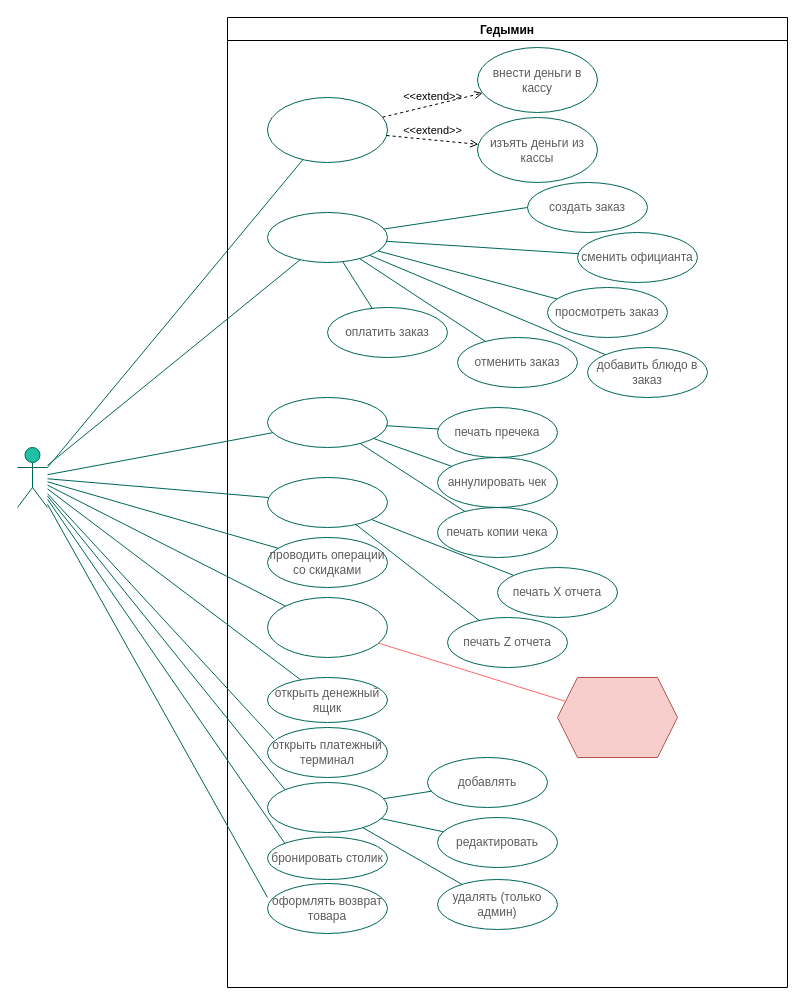
Image size: 805x1005. Some labels were removed from this diagram. The centre of each missing label's shape, as x and y in pixels:
"Actor" belongs at point 32,477.
"закрыть фискальную смену" belongs at point 327,627.
"можно ли закрыть смену без изъятия денег из кассы?" belongs at point 617,717.
"открыть фискальную смену" belongs at point 327,129.
"печатать отчеты" belongs at point 327,502.
"проводить операции с заказами" belongs at point 327,237.
"проводить операции с чеками" belongs at point 327,422.
"редактировать пользователей" belongs at point 327,807.
